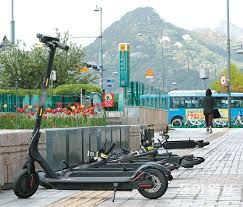guide_blocks: (48, 193, 111, 207)
kick_board: (12, 33, 166, 197)
kick_body: (51, 176, 130, 190)
kick_handler: (37, 33, 67, 52)
kick_neck: (26, 54, 51, 157)
kick_wheel: (137, 169, 167, 198), (13, 168, 38, 195)
